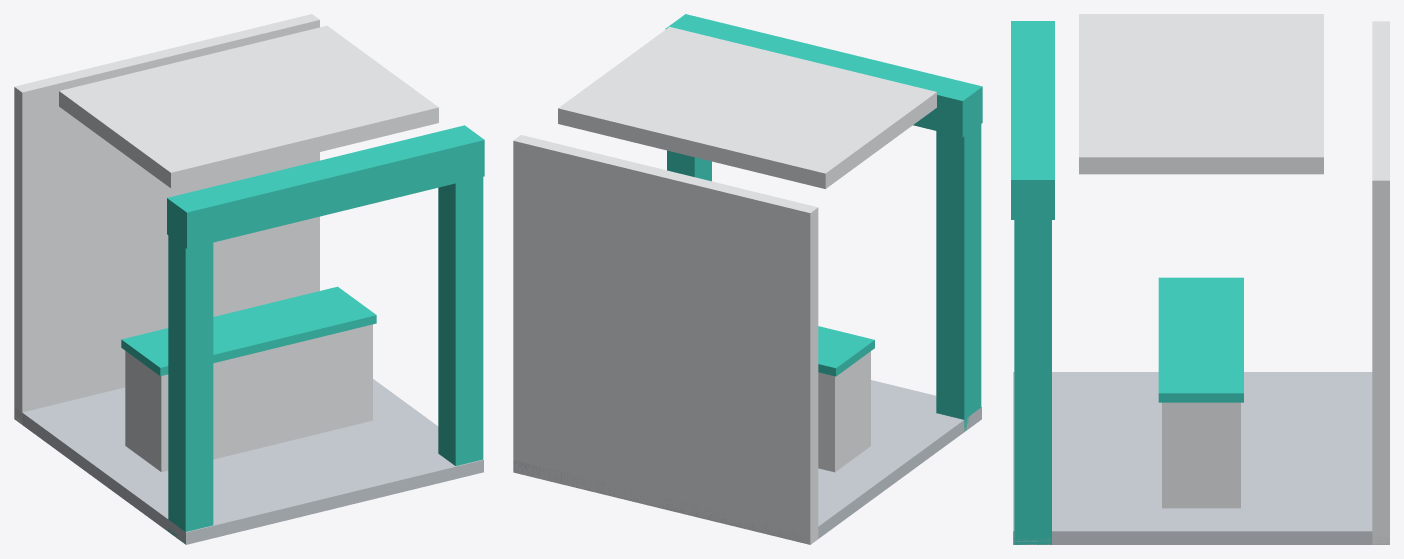
The picture shows the model from 3 angles, left to right: view 1: azimuth 30°, elevation 25°; view 2: azimuth 150°, elevation 25°; view 3: azimuth 270°, elevation 25°; orthographic projection. The views are drawn at different scales.
Visible parts, largest first — view 1: Exhibition Booth Concept; view 2: Exhibition Booth Concept; view 3: Exhibition Booth Concept.
Part boxes in pixels (x1,y1,x2,y2): Exhibition Booth Concept: (14, 14, 484, 544); Exhibition Booth Concept: (513, 14, 982, 544); Exhibition Booth Concept: (1011, 14, 1389, 544).
Size of the model in its own units: 3 by 3.34 by 3.01.
